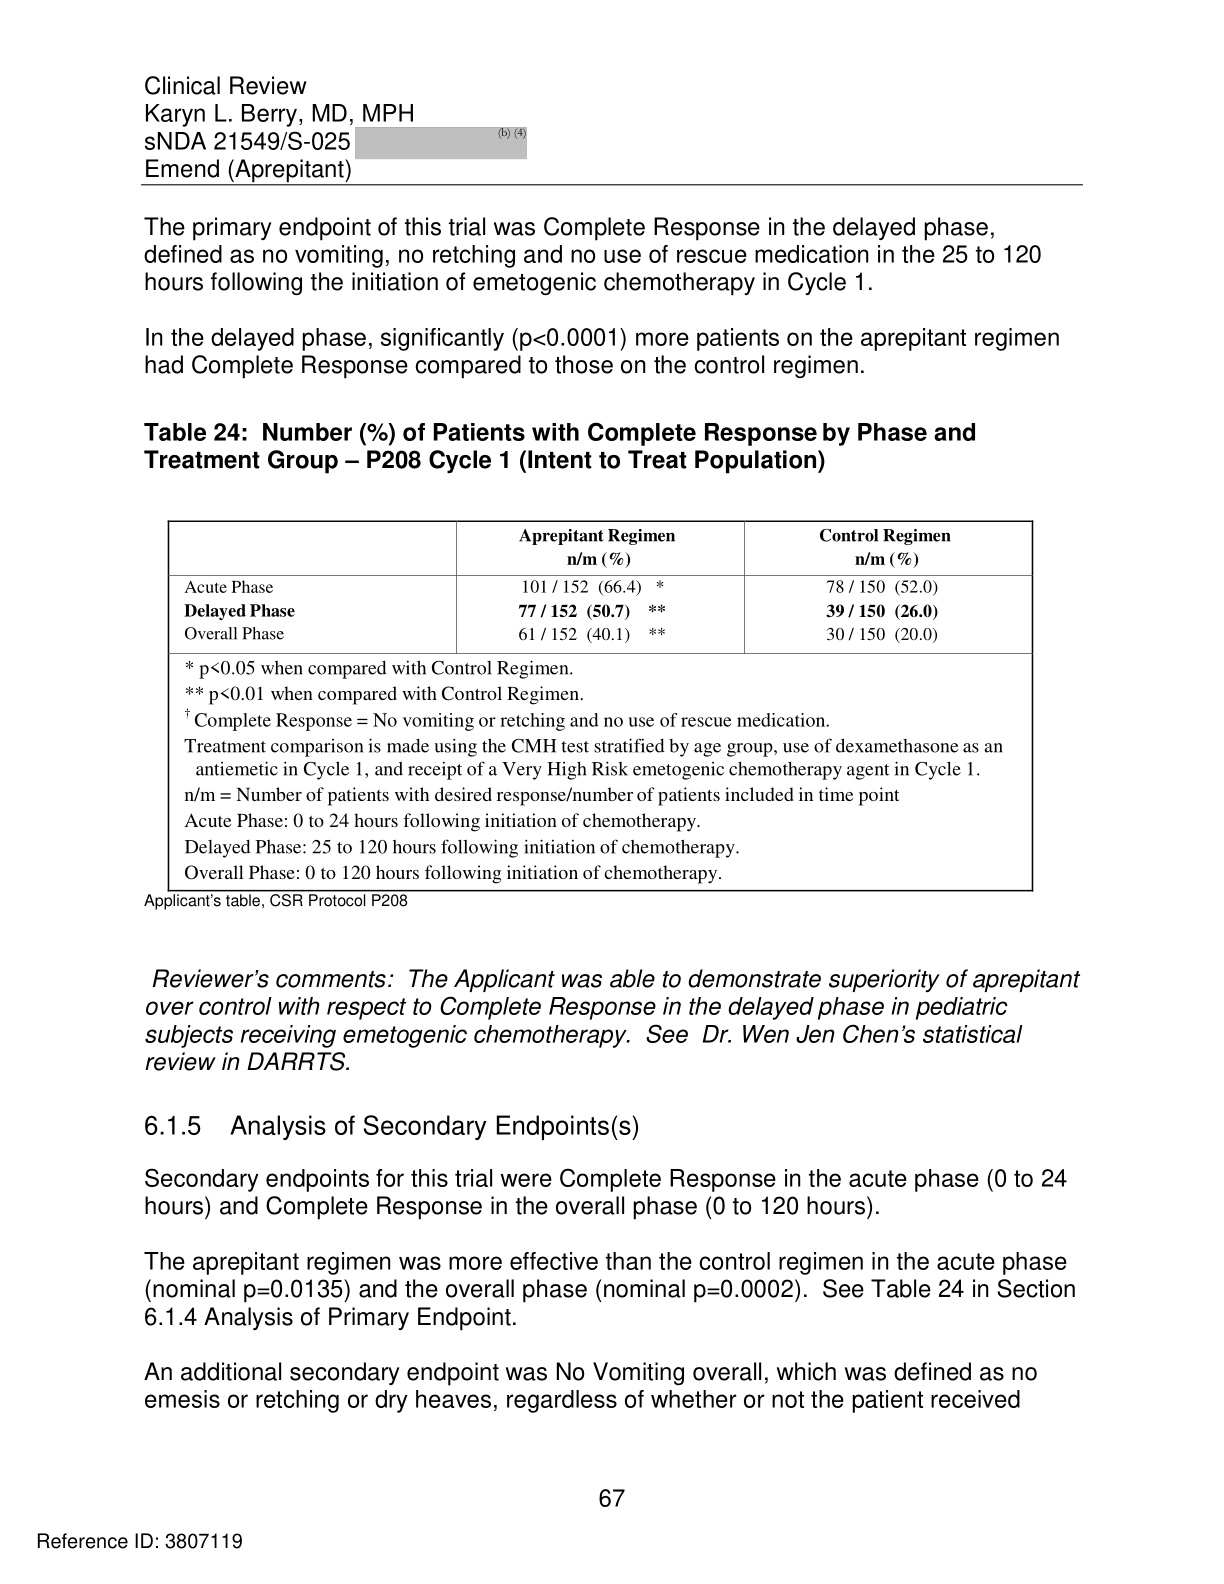merged_cells: (167, 519, 1034, 894)
